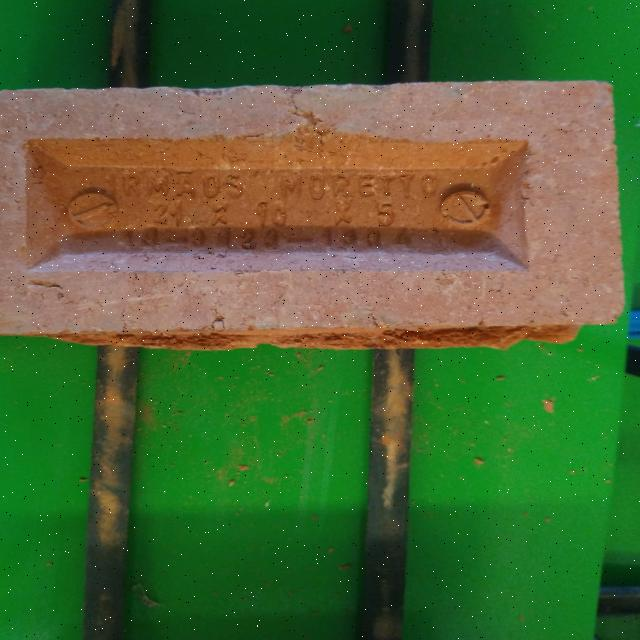bricks_ruin: (0, 78, 627, 350)
